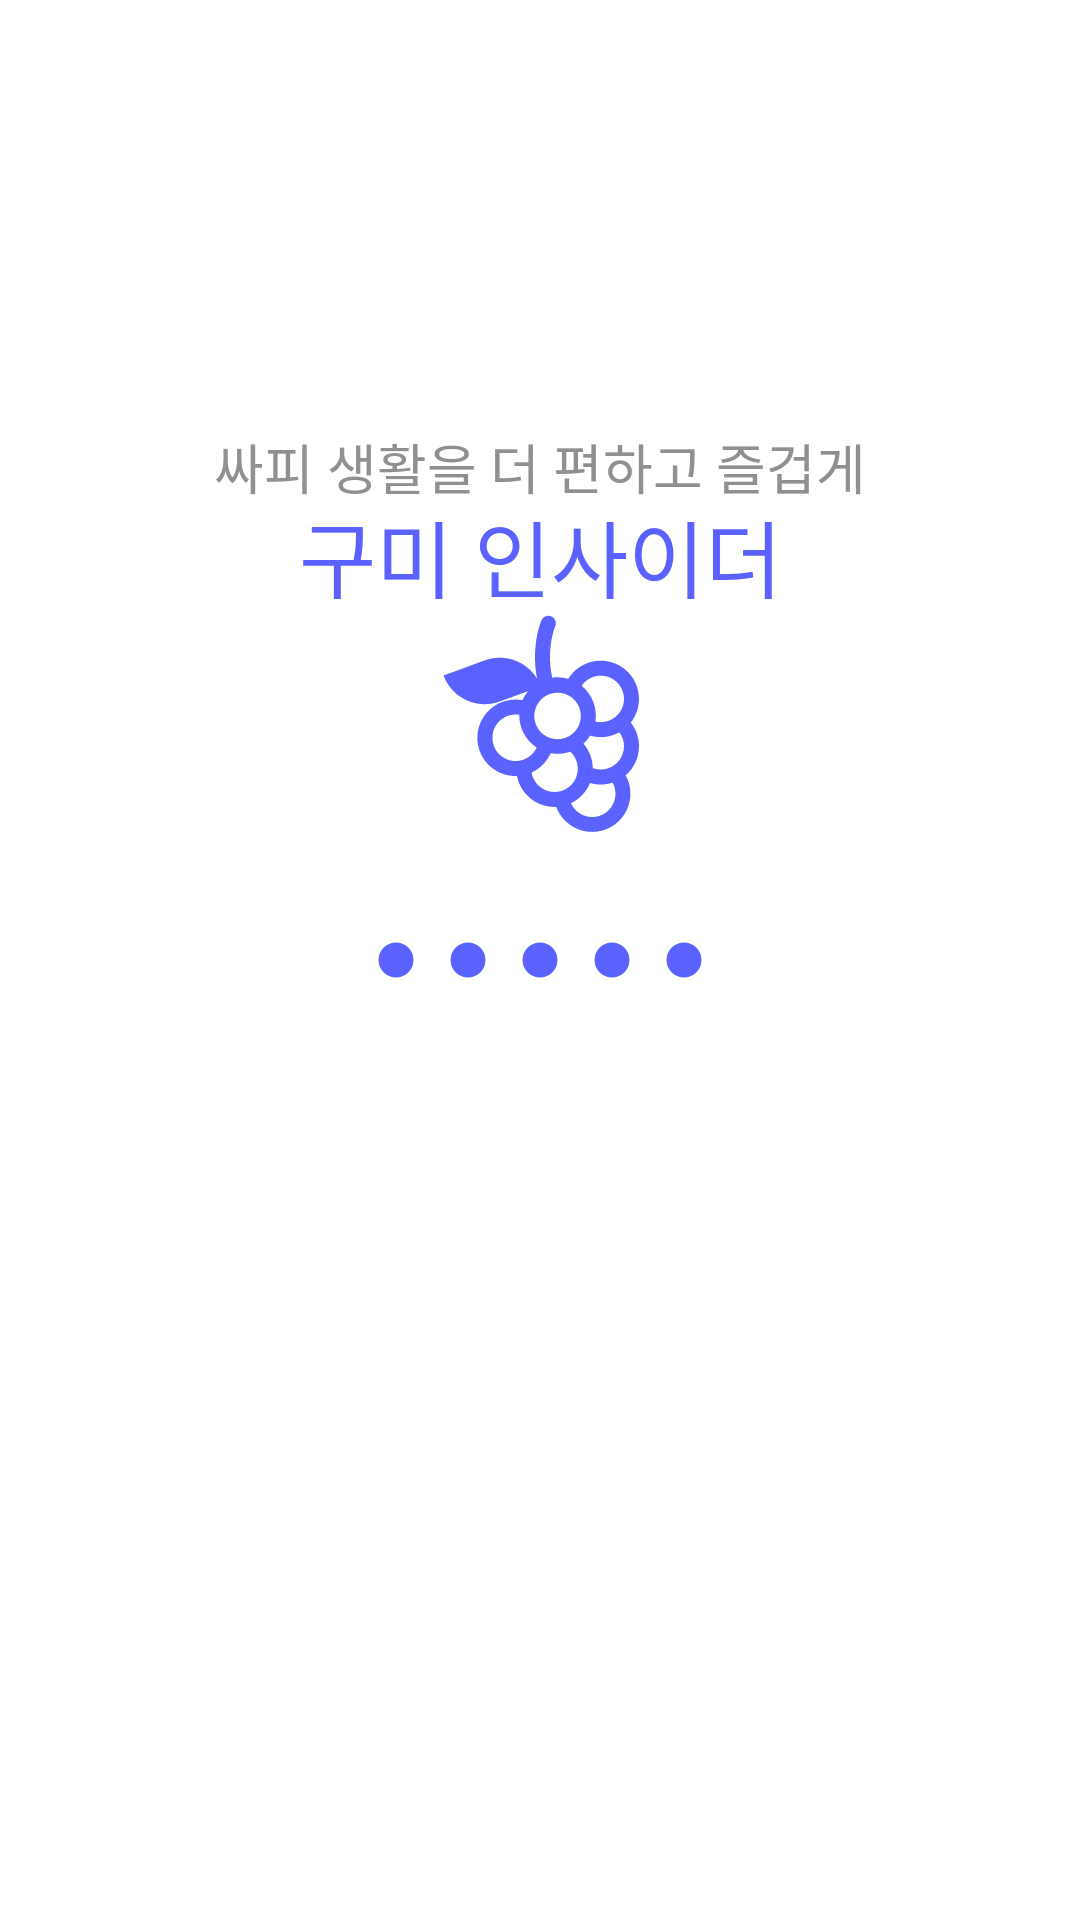

Locate icon controls on the screen. Image size 1080 x 1920, boxes as bbox=(x1, y1, x2, y2).
grape: bbox=(443, 615, 639, 832)
